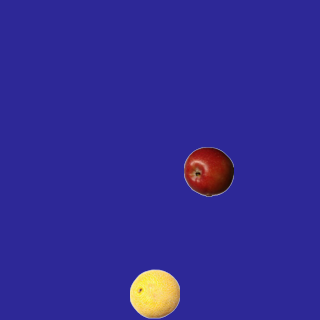Apple Braeburn: (183, 146, 233, 196)
Cantaloupe 1: (129, 268, 179, 318)
